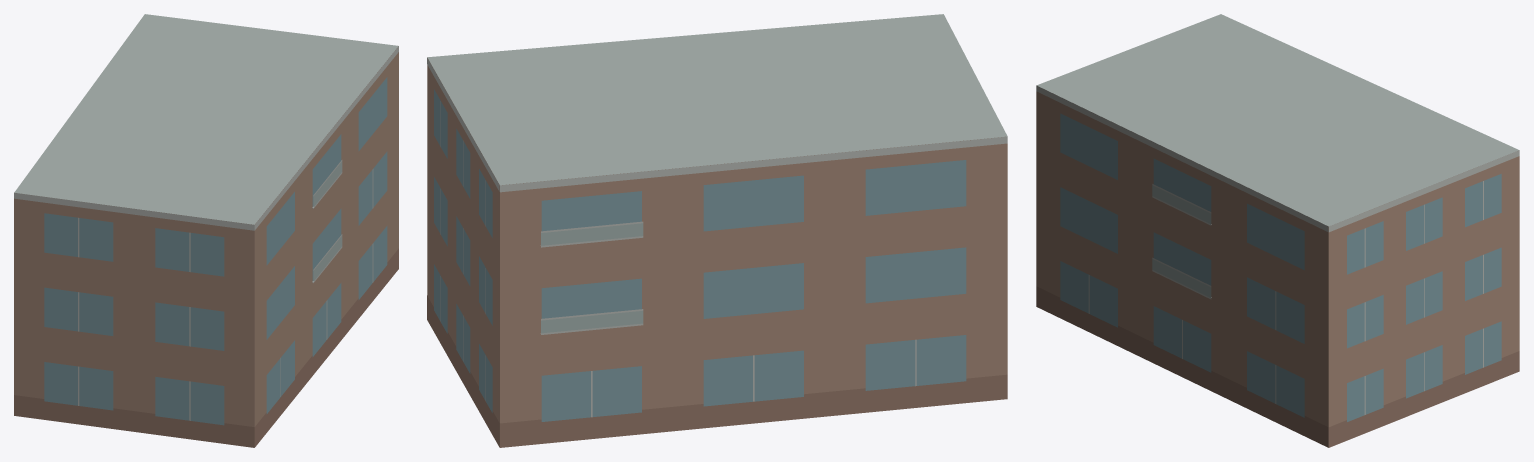
Rendered from survey-upis-32667577.glb.
The picture shows the model from 3 angles, left to right: view 1: azimuth 30°, elevation 25°; view 2: azimuth 150°, elevation 25°; view 3: azimuth 270°, elevation 25°; orthographic projection. The views are drawn at different scales.
Visible parts, largest first — view 1: survey-upis-32667577.tmp; view 2: survey-upis-32667577.tmp; view 3: survey-upis-32667577.tmp.
Boxes of the visible parts, x1=… form: survey-upis-32667577.tmp: x1=14, y1=14, x2=398, y2=447; survey-upis-32667577.tmp: x1=427, y1=14, x2=1007, y2=447; survey-upis-32667577.tmp: x1=1036, y1=14, x2=1519, y2=447.
Bounding box in the file's own units: 18.85 × 9.15 × 18.11.
